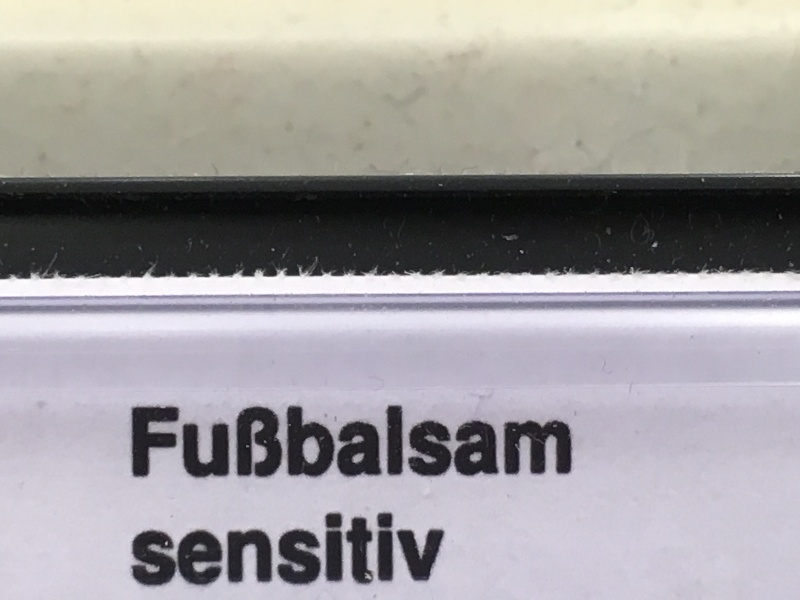text: (145, 513, 160, 588), (161, 513, 176, 588), (177, 513, 192, 588), (193, 513, 208, 588), (209, 513, 224, 588), (225, 513, 240, 588), (241, 513, 256, 588), (257, 513, 272, 588), (273, 513, 288, 588), (289, 513, 304, 588), (305, 513, 320, 588), (321, 513, 336, 588), (337, 513, 352, 588), (353, 513, 368, 588), (369, 513, 384, 588), (385, 513, 400, 588), (401, 513, 416, 588), (417, 513, 432, 588), (433, 513, 448, 588), (145, 406, 160, 480), (161, 406, 176, 480), (177, 406, 192, 480), (193, 406, 208, 480), (209, 406, 224, 480), (225, 406, 240, 480), (241, 406, 256, 480), (257, 406, 272, 480), (273, 406, 288, 480), (289, 406, 304, 480), (305, 406, 320, 480), (321, 406, 336, 480), (337, 406, 352, 480), (353, 406, 368, 480), (369, 406, 384, 480), (385, 406, 400, 480), (401, 406, 416, 480), (417, 406, 432, 480), (433, 406, 448, 480), (449, 406, 464, 480), (465, 406, 480, 480), (481, 406, 496, 480), (497, 406, 512, 480), (513, 406, 528, 480), (529, 406, 544, 480), (545, 406, 560, 480), (131, 406, 144, 480), (561, 406, 574, 480), (133, 513, 144, 588), (449, 513, 452, 588)
